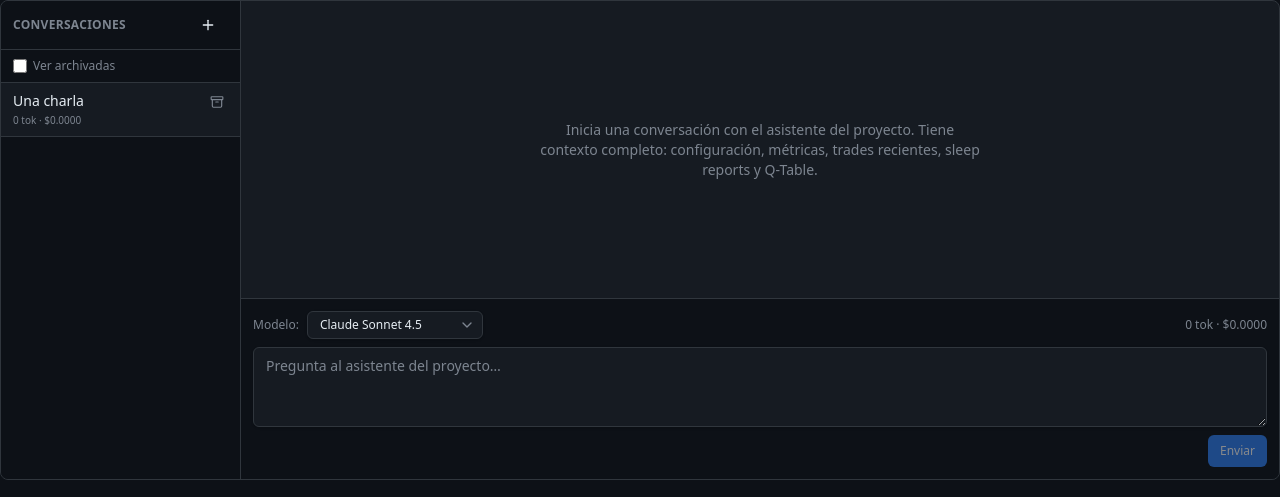
ChatPage › renders the surface and consumes an SSE stream end-to-end
The image size is (1280, 497).
Expected: the text "Una charla" is shown, [13,91,84,110]
Type "ping" into the text box with test id "chat-input-textarea" at (760, 387), box [253,347,1267,427]
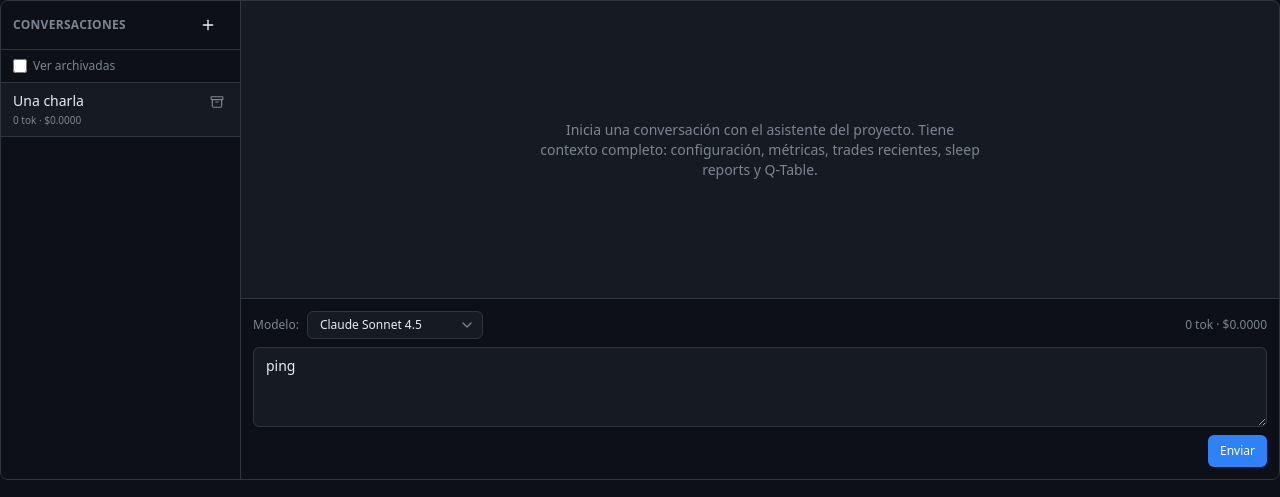
Click the button with test id "chat-submit" at (1238, 451), box [1208,435,1267,467]
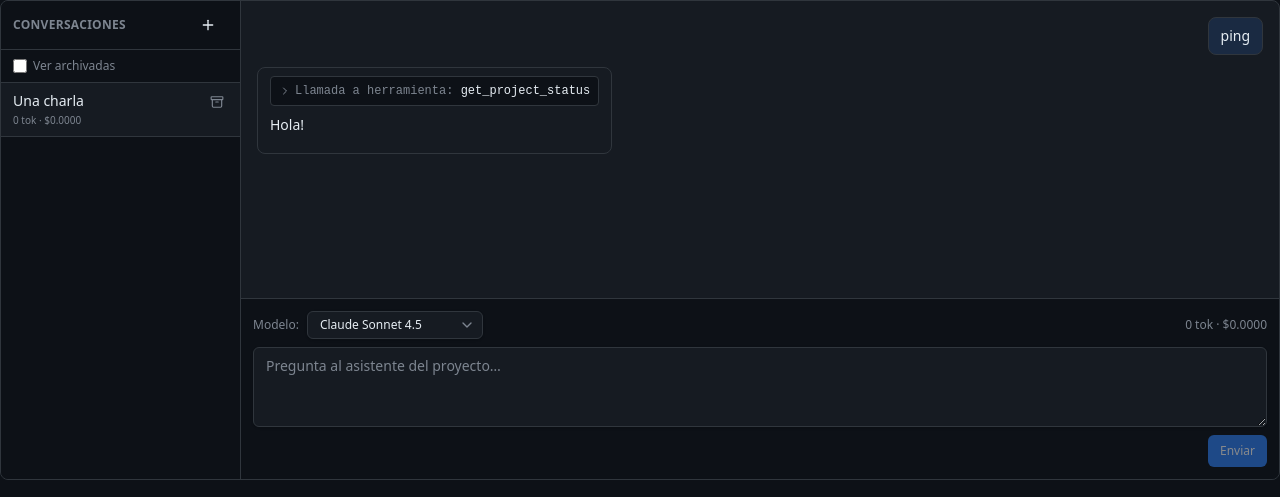
Expected: the element with test id "chat-assistant-bubble" is shown, [257,67,612,154]
Expected: the element with test id "chat-assistant-markdown" reads "Hola!", [270,115,304,134]
Expected: the element with test id "chat-tool-call-get_project_status" is shown, [270,76,599,106]
